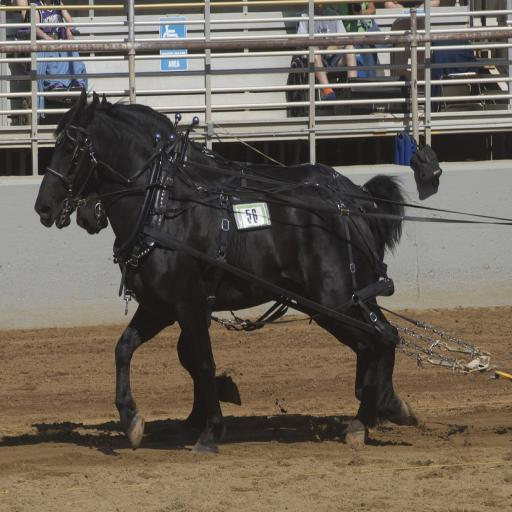horse: (33, 88, 419, 454), (76, 92, 408, 428)
